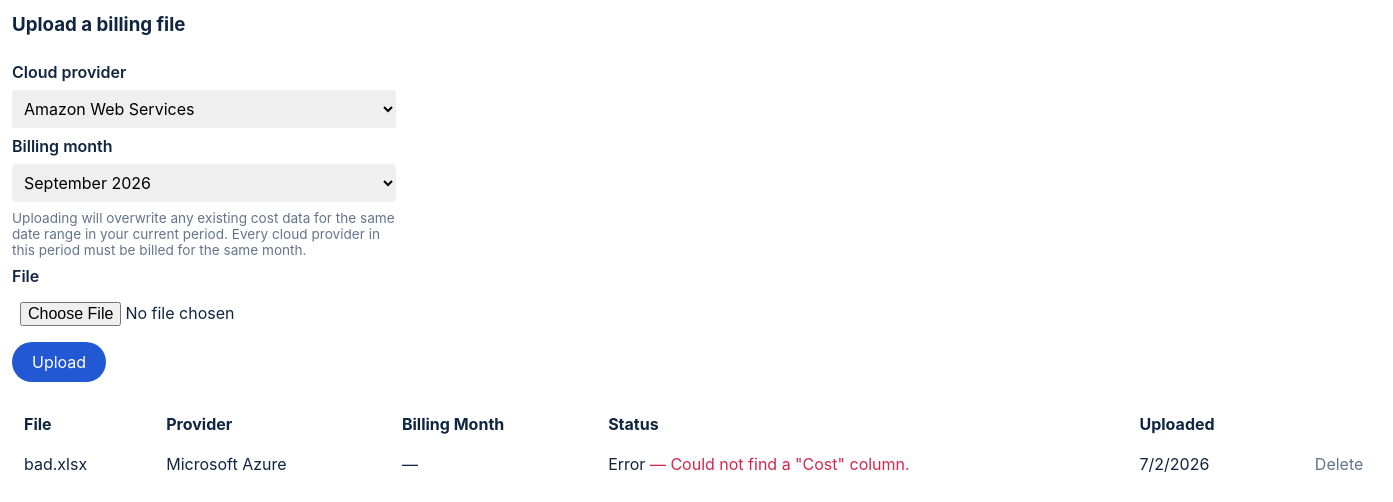
Scenario: UploadedFilesList › deletes an errored file after confirmation and refreshes the list
Expected: the text "bad.xlsx" is shown, [12, 442, 154, 486]
Click the button "Delete" at (1339, 464), box [1301, 450, 1377, 478]
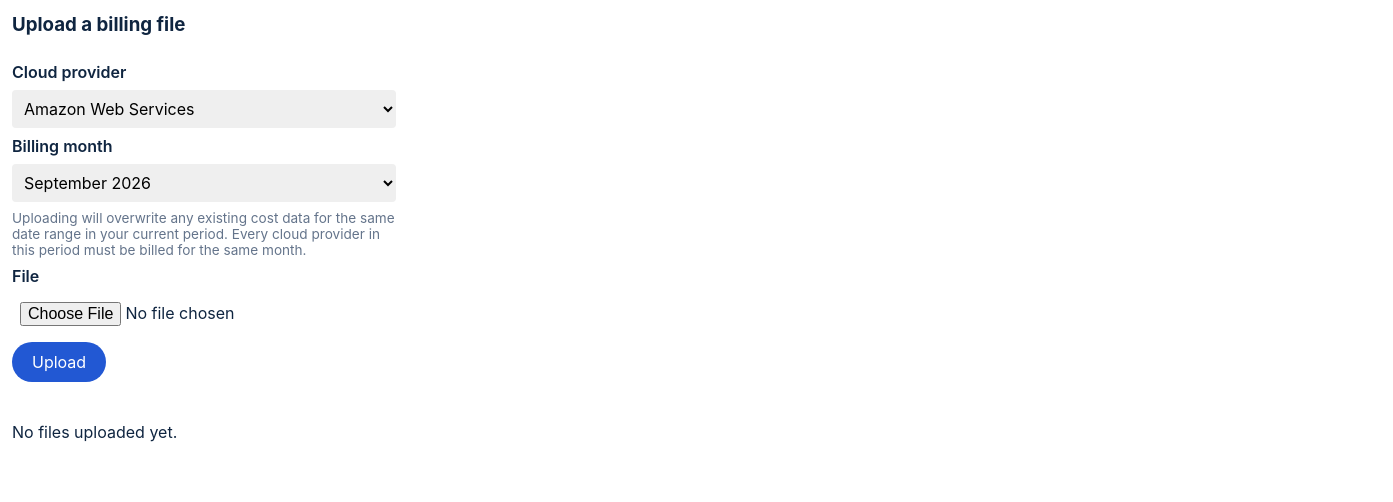
Expected: the text "No files uploaded yet." is shown, [12, 422, 177, 442]
